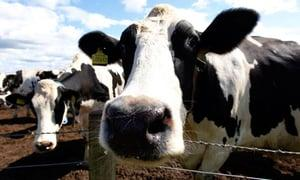muzzles: (98, 98, 186, 167)
